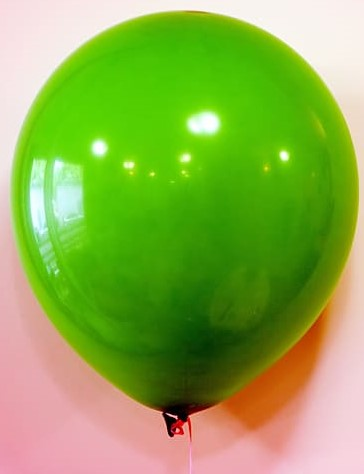Balloon: (12, 10, 359, 413)
